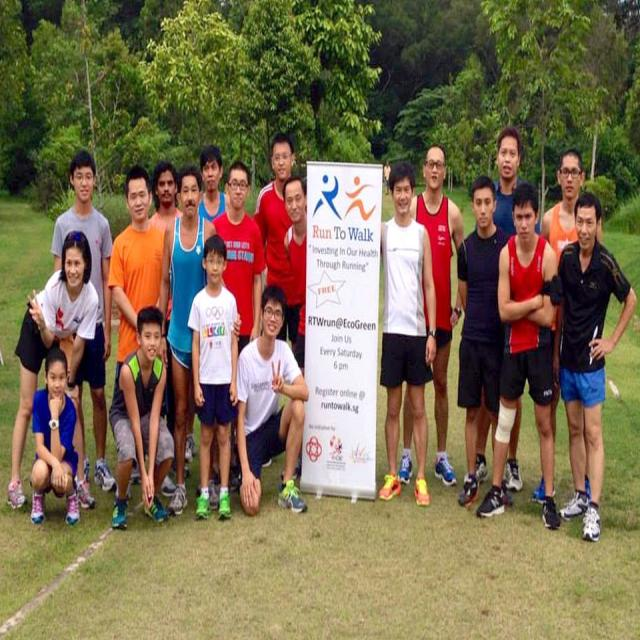body: (473, 180, 563, 530), (549, 189, 638, 542), (5, 230, 100, 516), (529, 148, 603, 506), (392, 141, 465, 487), (473, 125, 540, 492), (48, 148, 115, 502), (157, 164, 217, 524), (378, 163, 438, 508), (454, 175, 514, 514), (183, 142, 240, 469), (185, 231, 247, 524), (234, 285, 309, 518), (146, 159, 192, 480), (108, 305, 173, 532), (105, 164, 166, 385), (252, 131, 304, 353), (210, 159, 267, 355), (28, 342, 83, 526), (282, 173, 308, 384), (383, 159, 391, 196)
